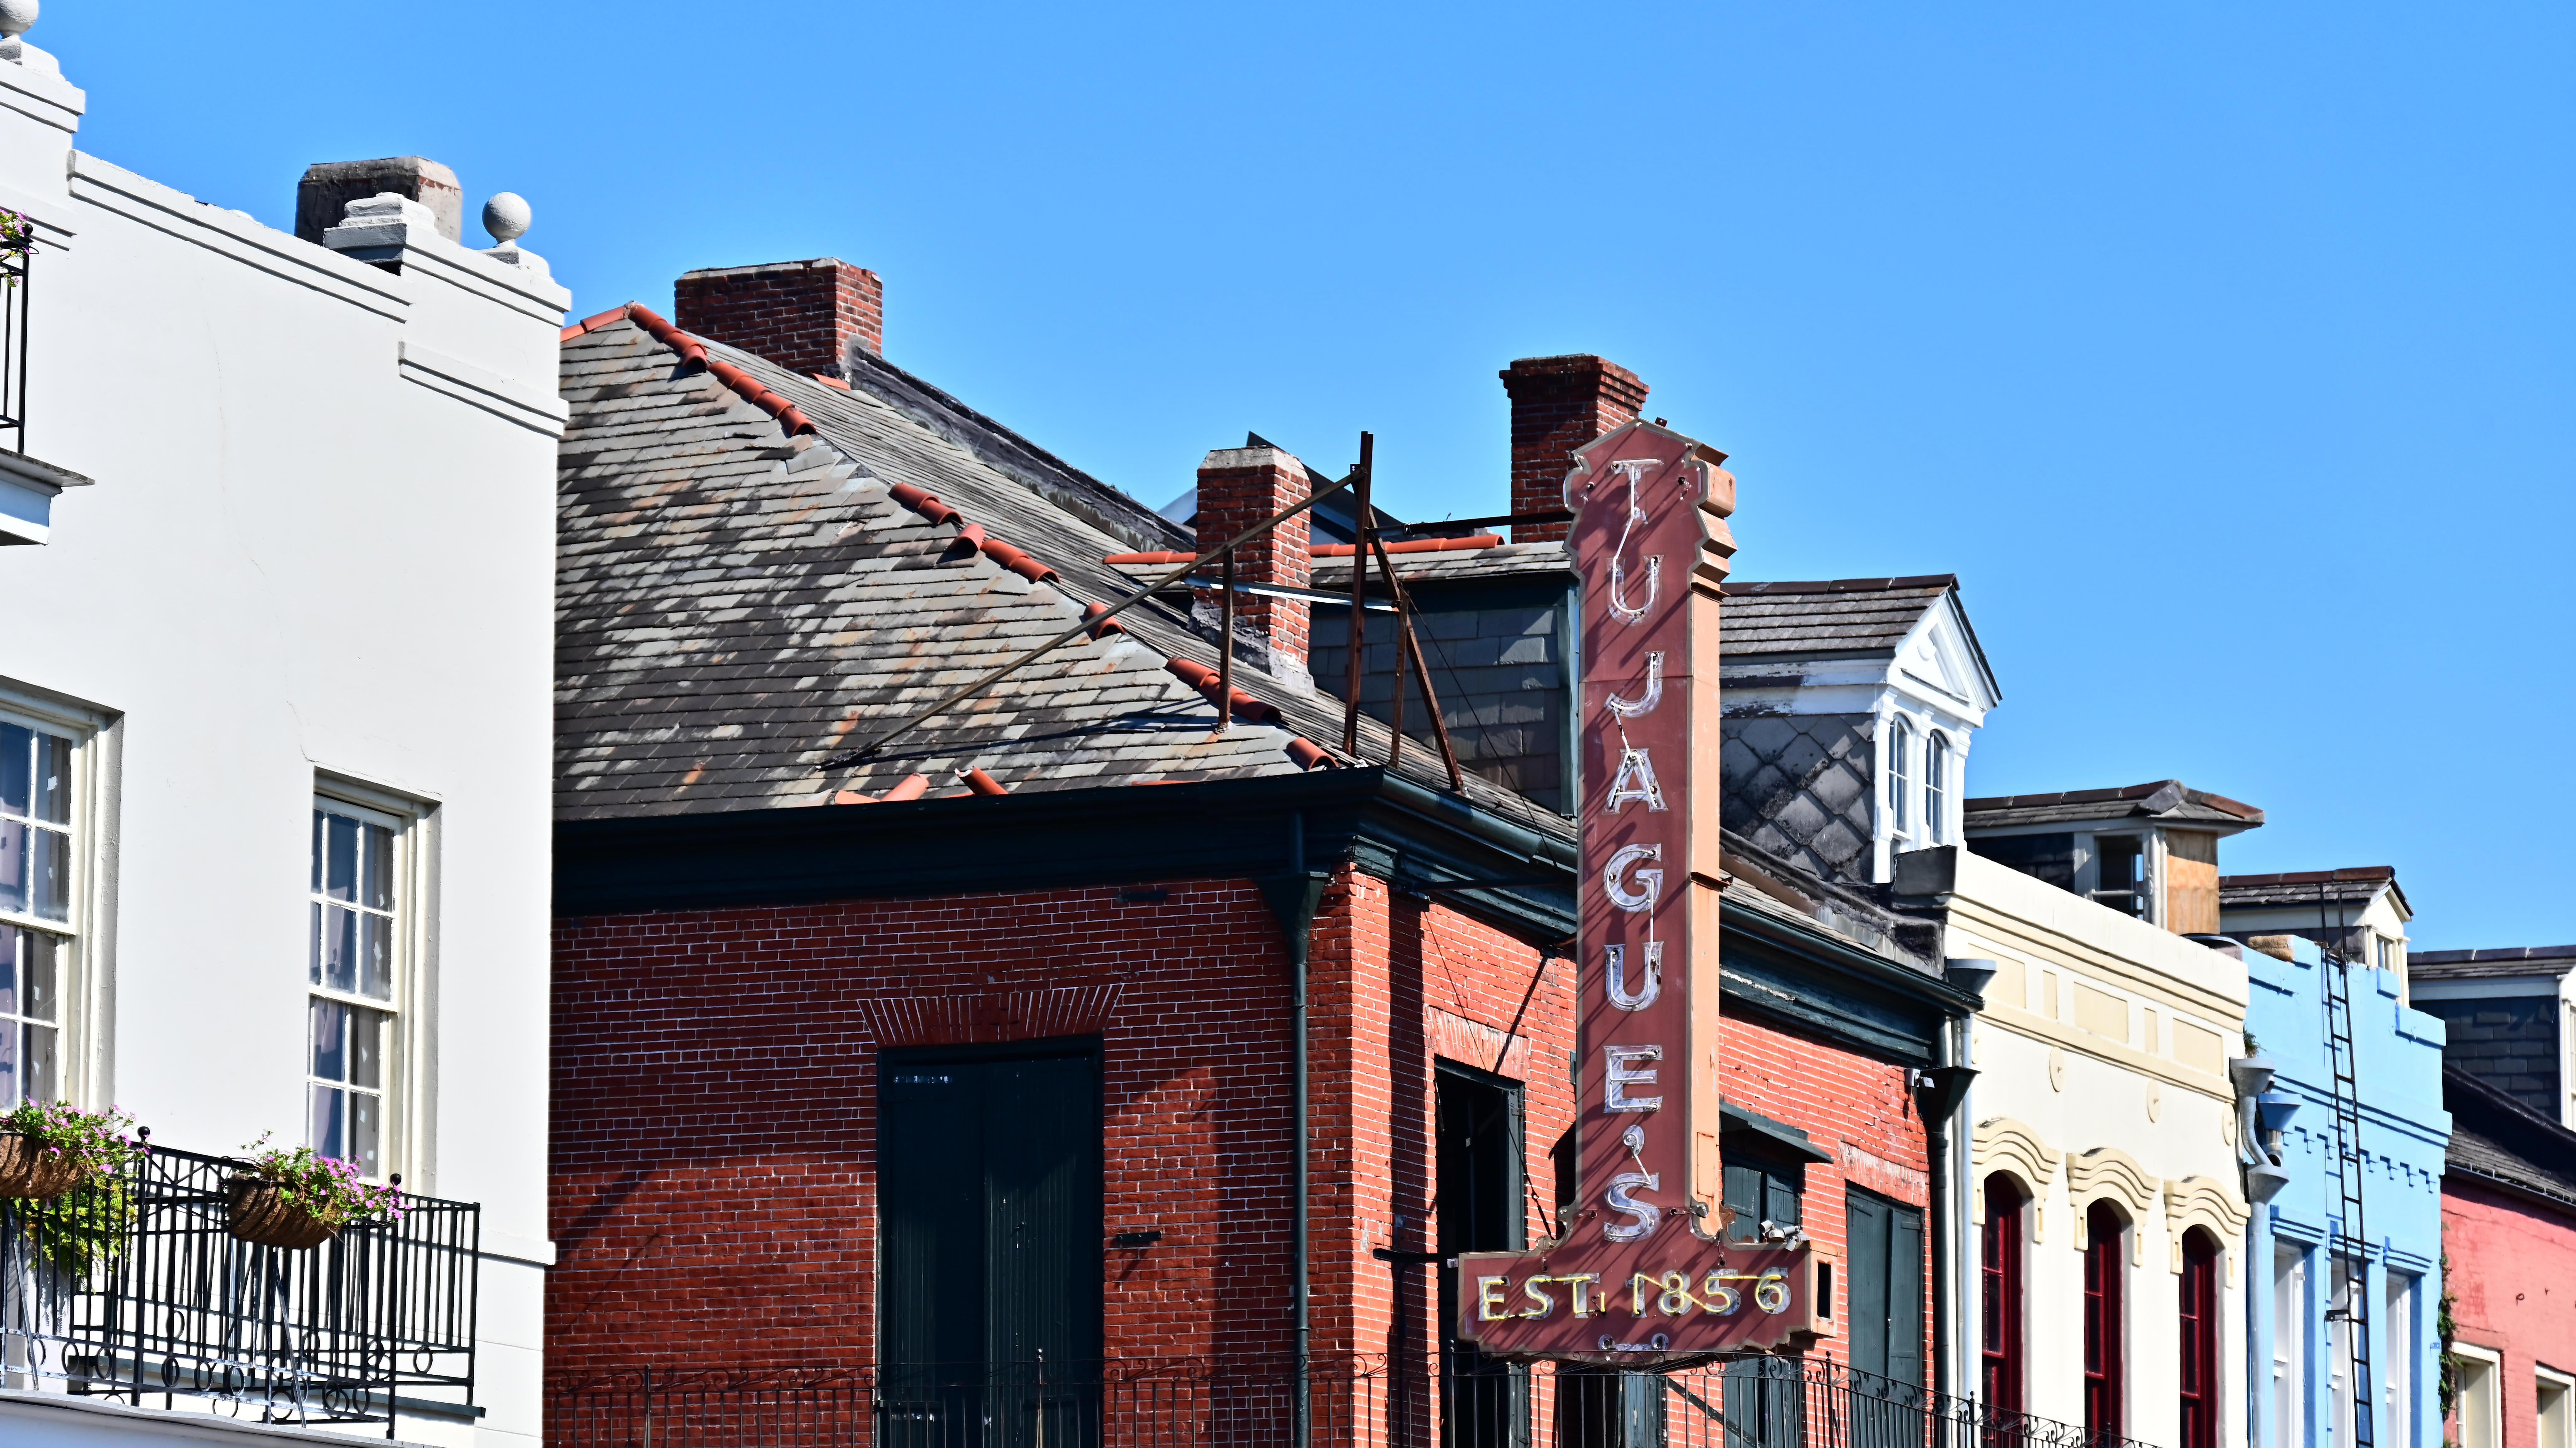affected: (563, 290, 1969, 1448), (0, 225, 533, 1448)
